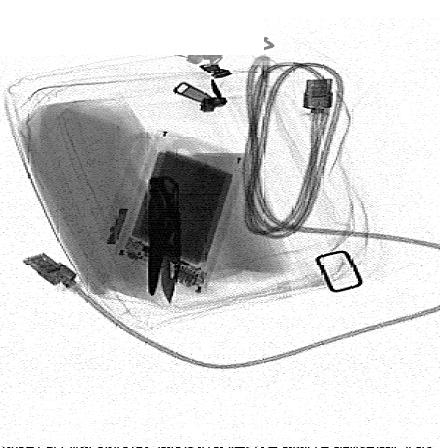Knife: (146, 176, 183, 303)
Powerbank: (111, 128, 257, 298)
Scissors: (117, 132, 205, 299)
